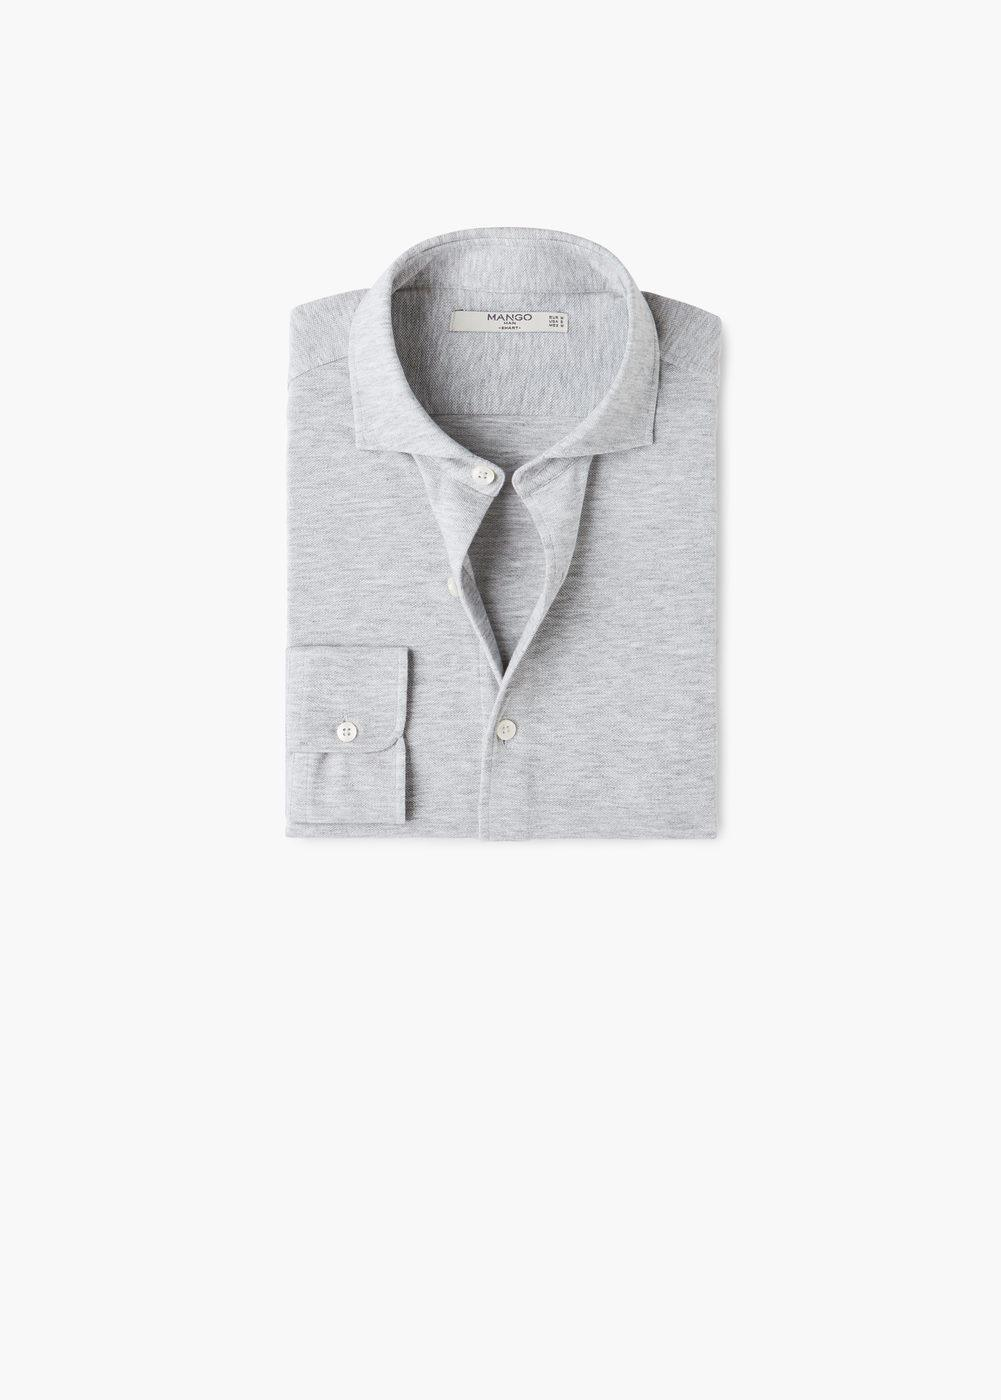teeshirt: (274, 225, 750, 865)
